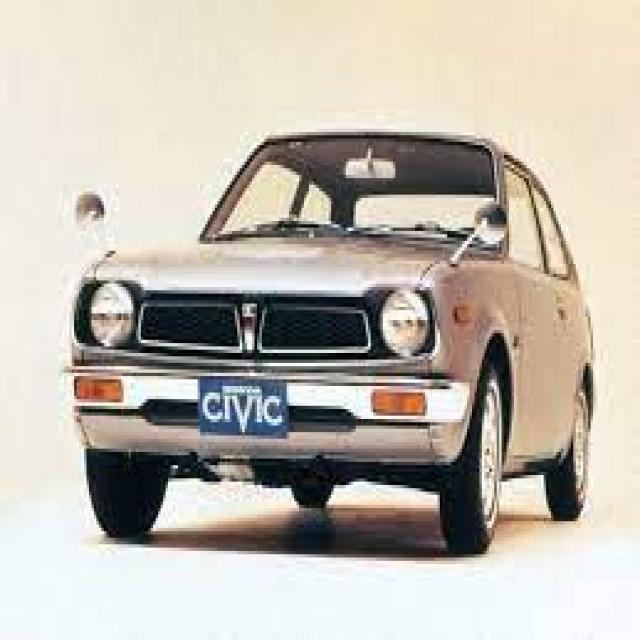Car: (64, 122, 597, 549)
